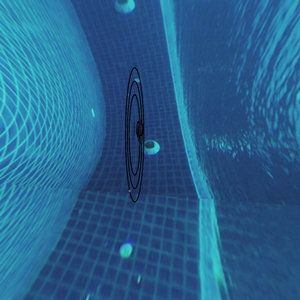submarine: (132, 122, 145, 138)
